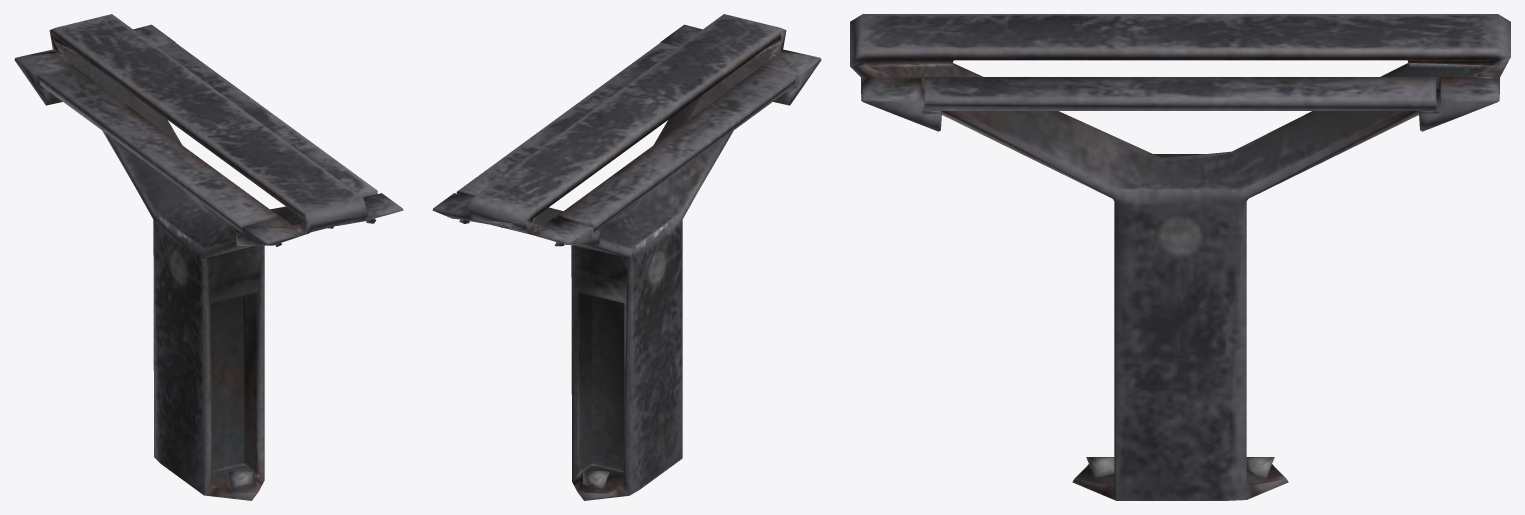
Rendered from street_bench.glb.
3 views of the same model, side by side, from view 1: azimuth 30°, elevation 25°; view 2: azimuth 150°, elevation 25°; view 3: azimuth 270°, elevation 25° (orthographic). The views are drawn at different scales.
Size of the model in its own units: 0.1844 by 0.45 by 0.5981.
1 material, 1 textured.
